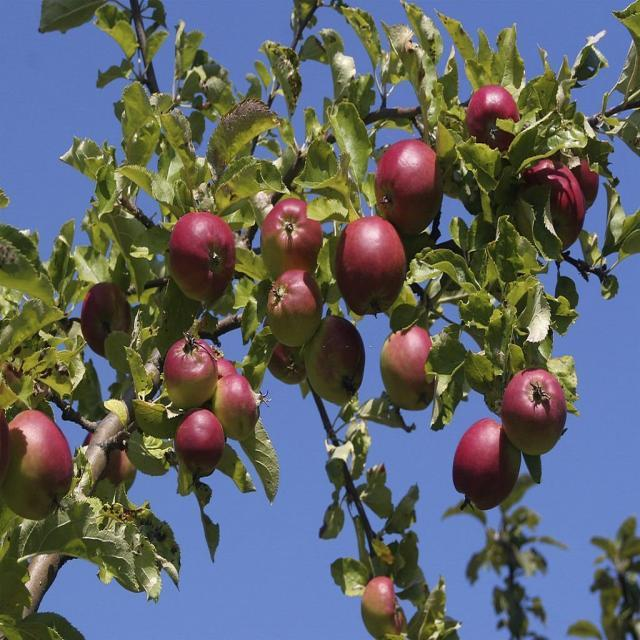Red Apple: (7, 411, 72, 508), (342, 217, 407, 307), (455, 411, 516, 503), (171, 215, 241, 294), (381, 143, 438, 229), (309, 318, 367, 399), (527, 166, 581, 248), (384, 334, 439, 406), (508, 370, 558, 447), (269, 202, 320, 275), (167, 338, 216, 405), (273, 271, 323, 336), (177, 408, 226, 470), (473, 82, 521, 144), (84, 287, 132, 347), (217, 380, 260, 434), (95, 445, 138, 493), (268, 337, 308, 387), (365, 581, 400, 633), (573, 149, 600, 198)
